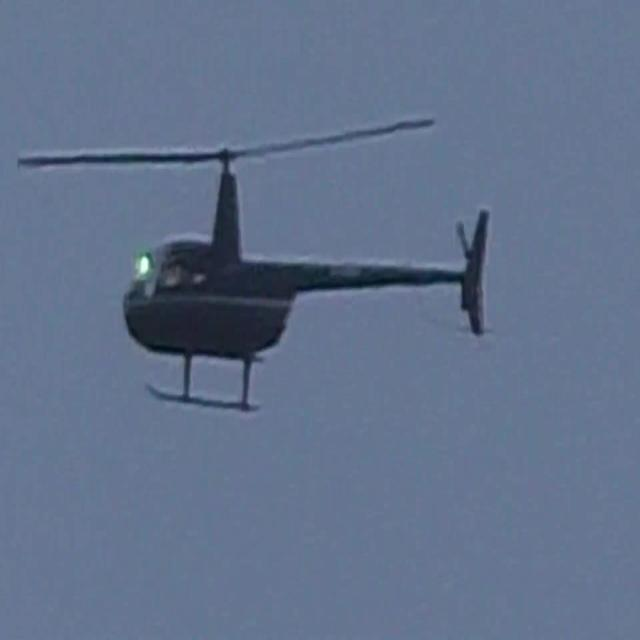CIV_HELO: (121, 144, 489, 416)
